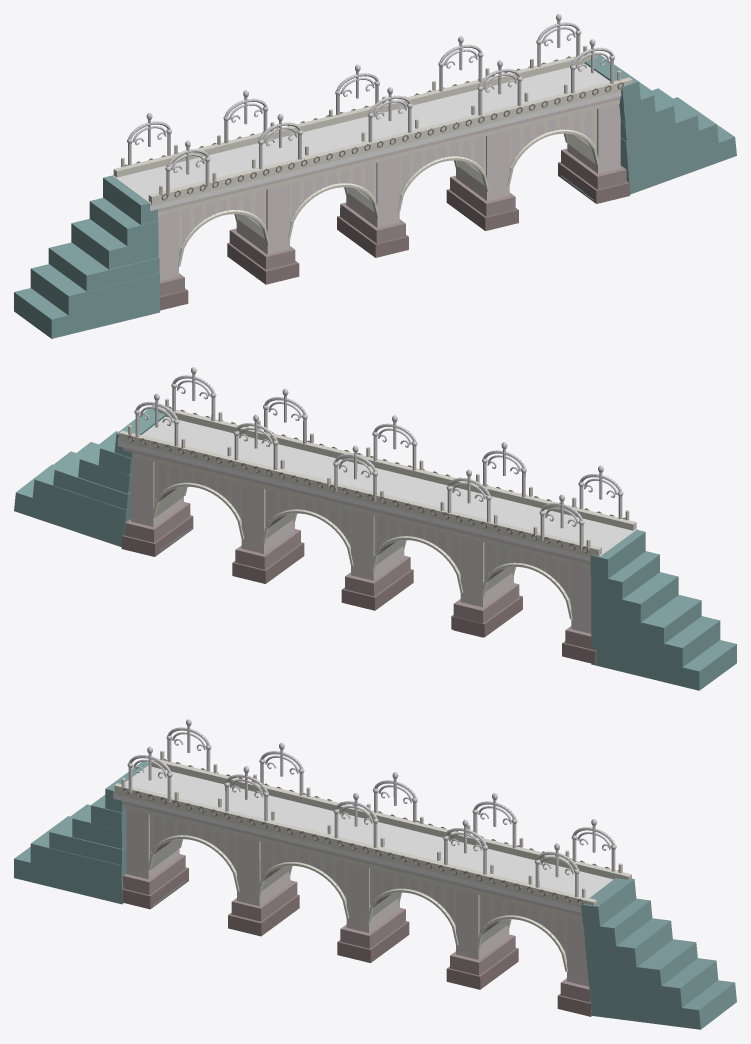
Rendered from puente_ortiz.glb.
The picture shows the model from 3 angles, top to bottom: view 1: azimuth 30°, elevation 25°; view 2: azimuth 150°, elevation 25°; view 3: azimuth 330°, elevation 25°; orthographic projection.
Visible parts, largest first — view 1: Cubo.001; view 2: Cubo.001; view 3: Cubo.001.
Part boxes in pixels (x1,y1,x2,y2): Cubo.001: (14, 14, 736, 338); Cubo.001: (14, 367, 736, 690); Cubo.001: (14, 719, 736, 1029).
Bounding box in the file's own units: 0.3 × 0.0698 × 0.0315.
